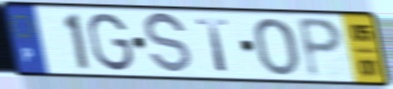1: (62, 11, 92, 72)
G: (85, 11, 136, 73)
O: (251, 16, 301, 78)
P: (294, 15, 346, 81)
S: (143, 10, 194, 78)
T: (193, 17, 232, 74)
